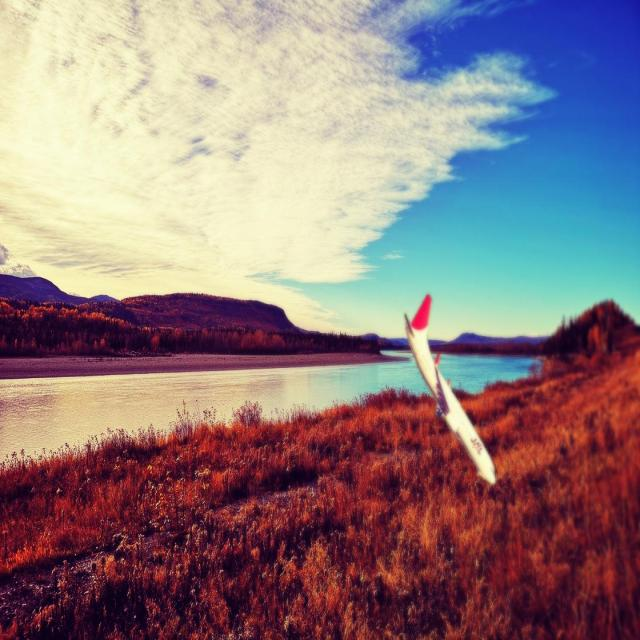airplane: (402, 293, 497, 485)
